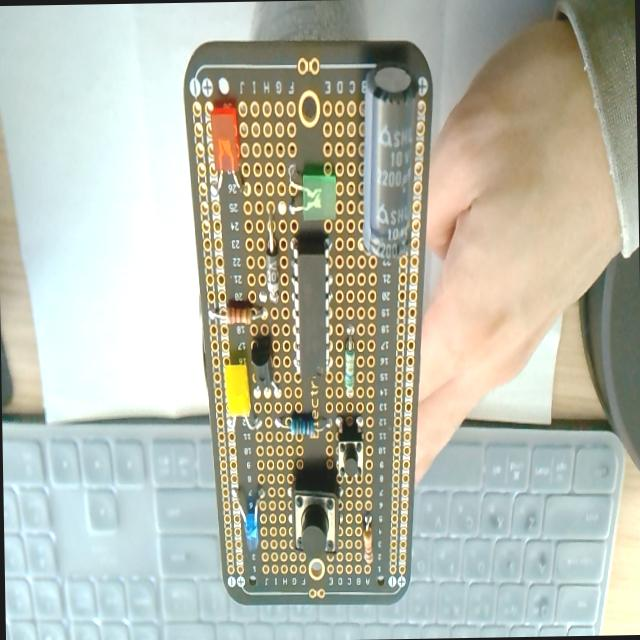Electrolytic capacitor: (358, 64, 420, 262)
IC: (288, 235, 334, 378)
diode: (264, 205, 280, 304)
led: (208, 102, 244, 198), (286, 166, 336, 220), (233, 488, 265, 556), (223, 358, 250, 418)
resistor: (208, 302, 268, 326), (277, 416, 331, 438), (342, 324, 357, 394), (362, 520, 373, 564)
switch: (292, 478, 338, 562), (337, 422, 364, 479)
transistor: (252, 340, 272, 393)
